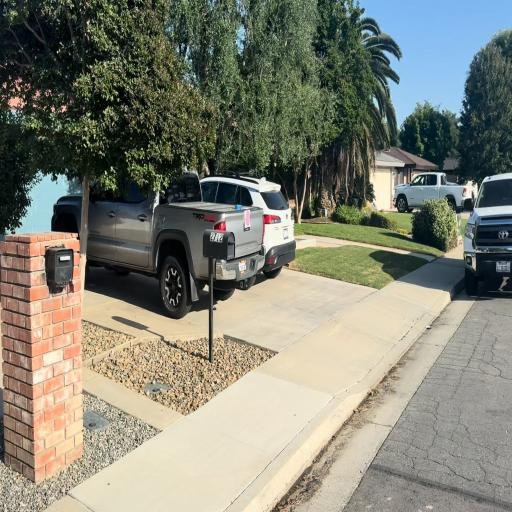bullseye: (244, 210, 250, 228)
